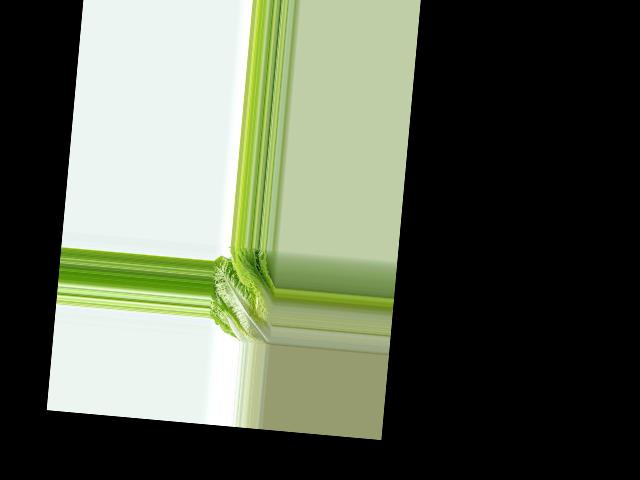lettuce: (208, 243, 278, 344)
